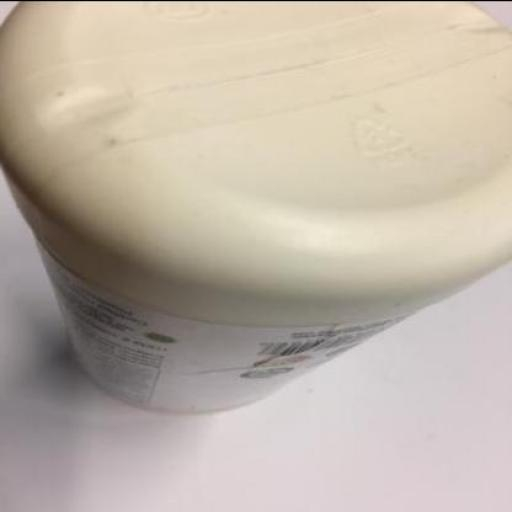plastic: (1, 1, 511, 414)
